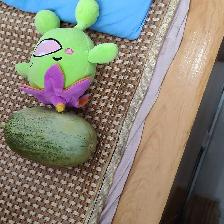gua: (8, 112, 98, 160)
